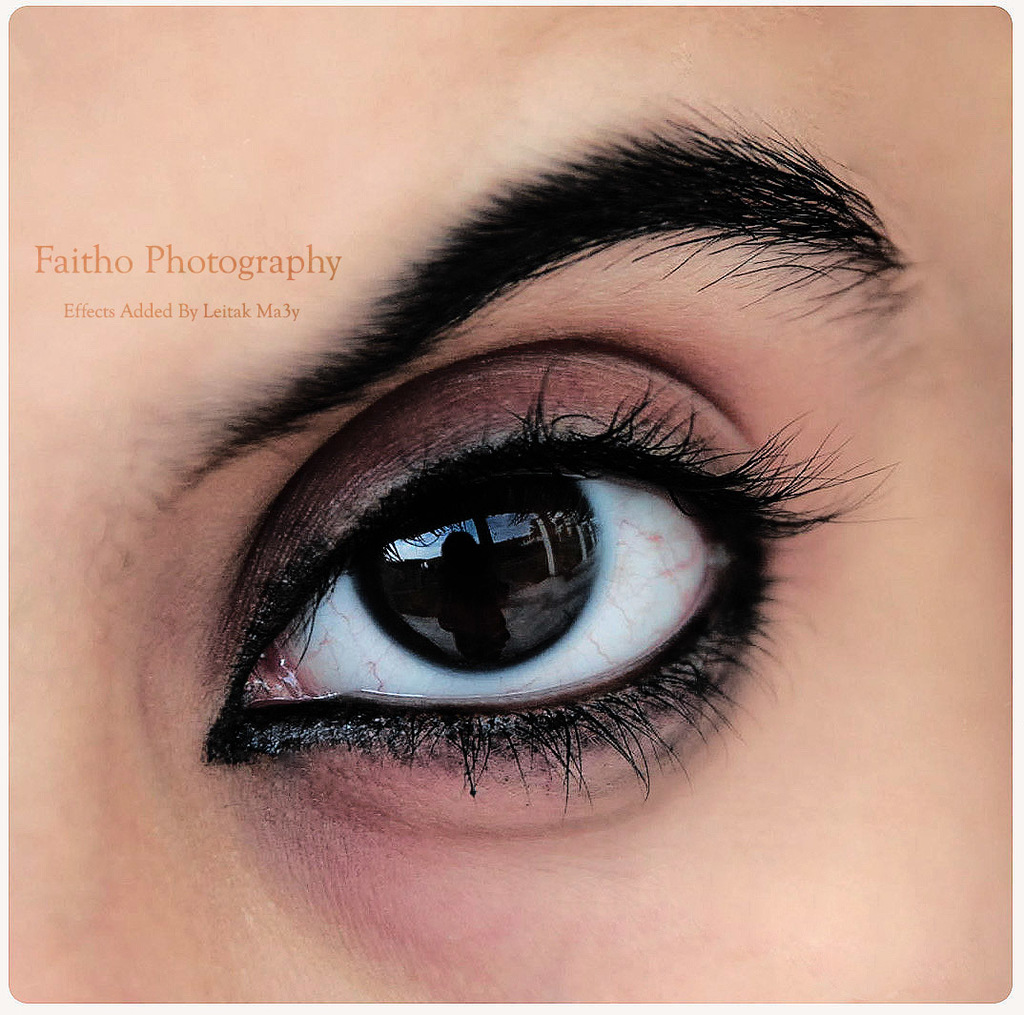person: (433, 529, 512, 660)
